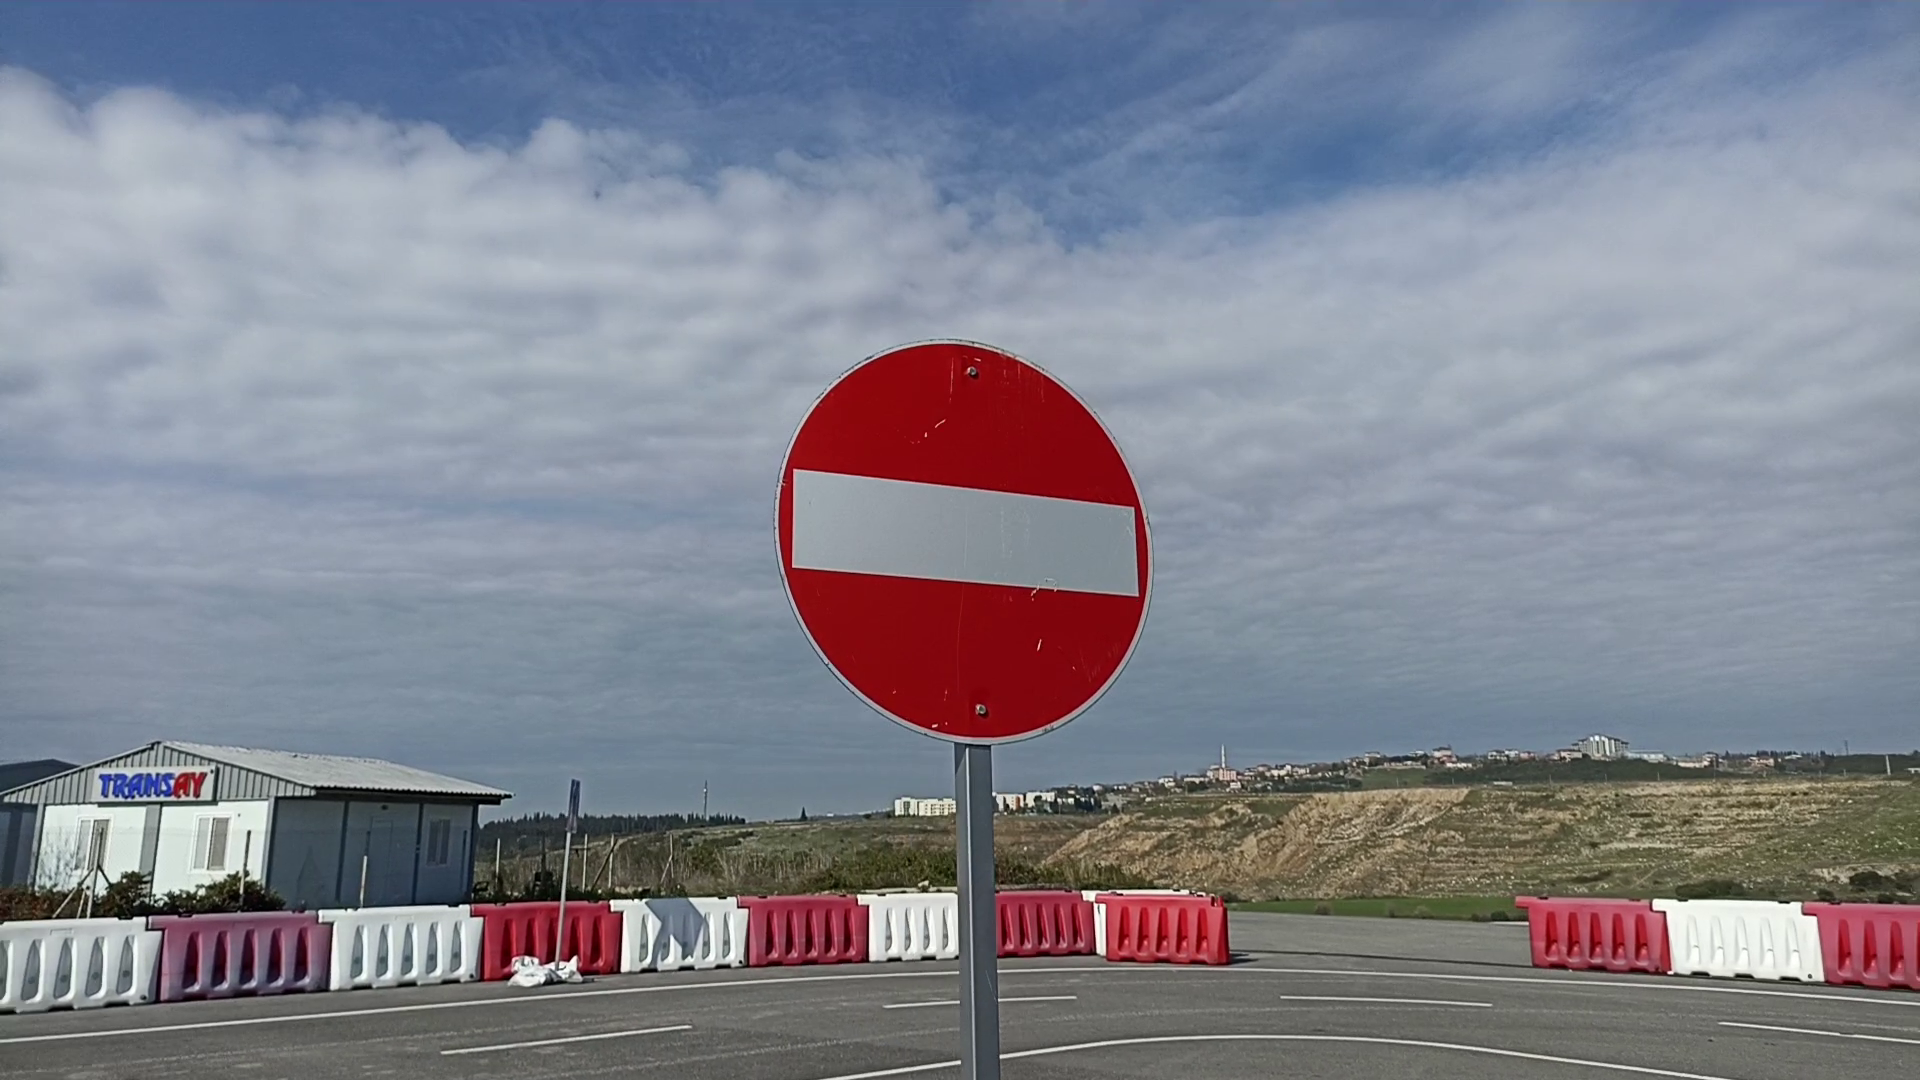noentryway: (770, 332, 1166, 749)
